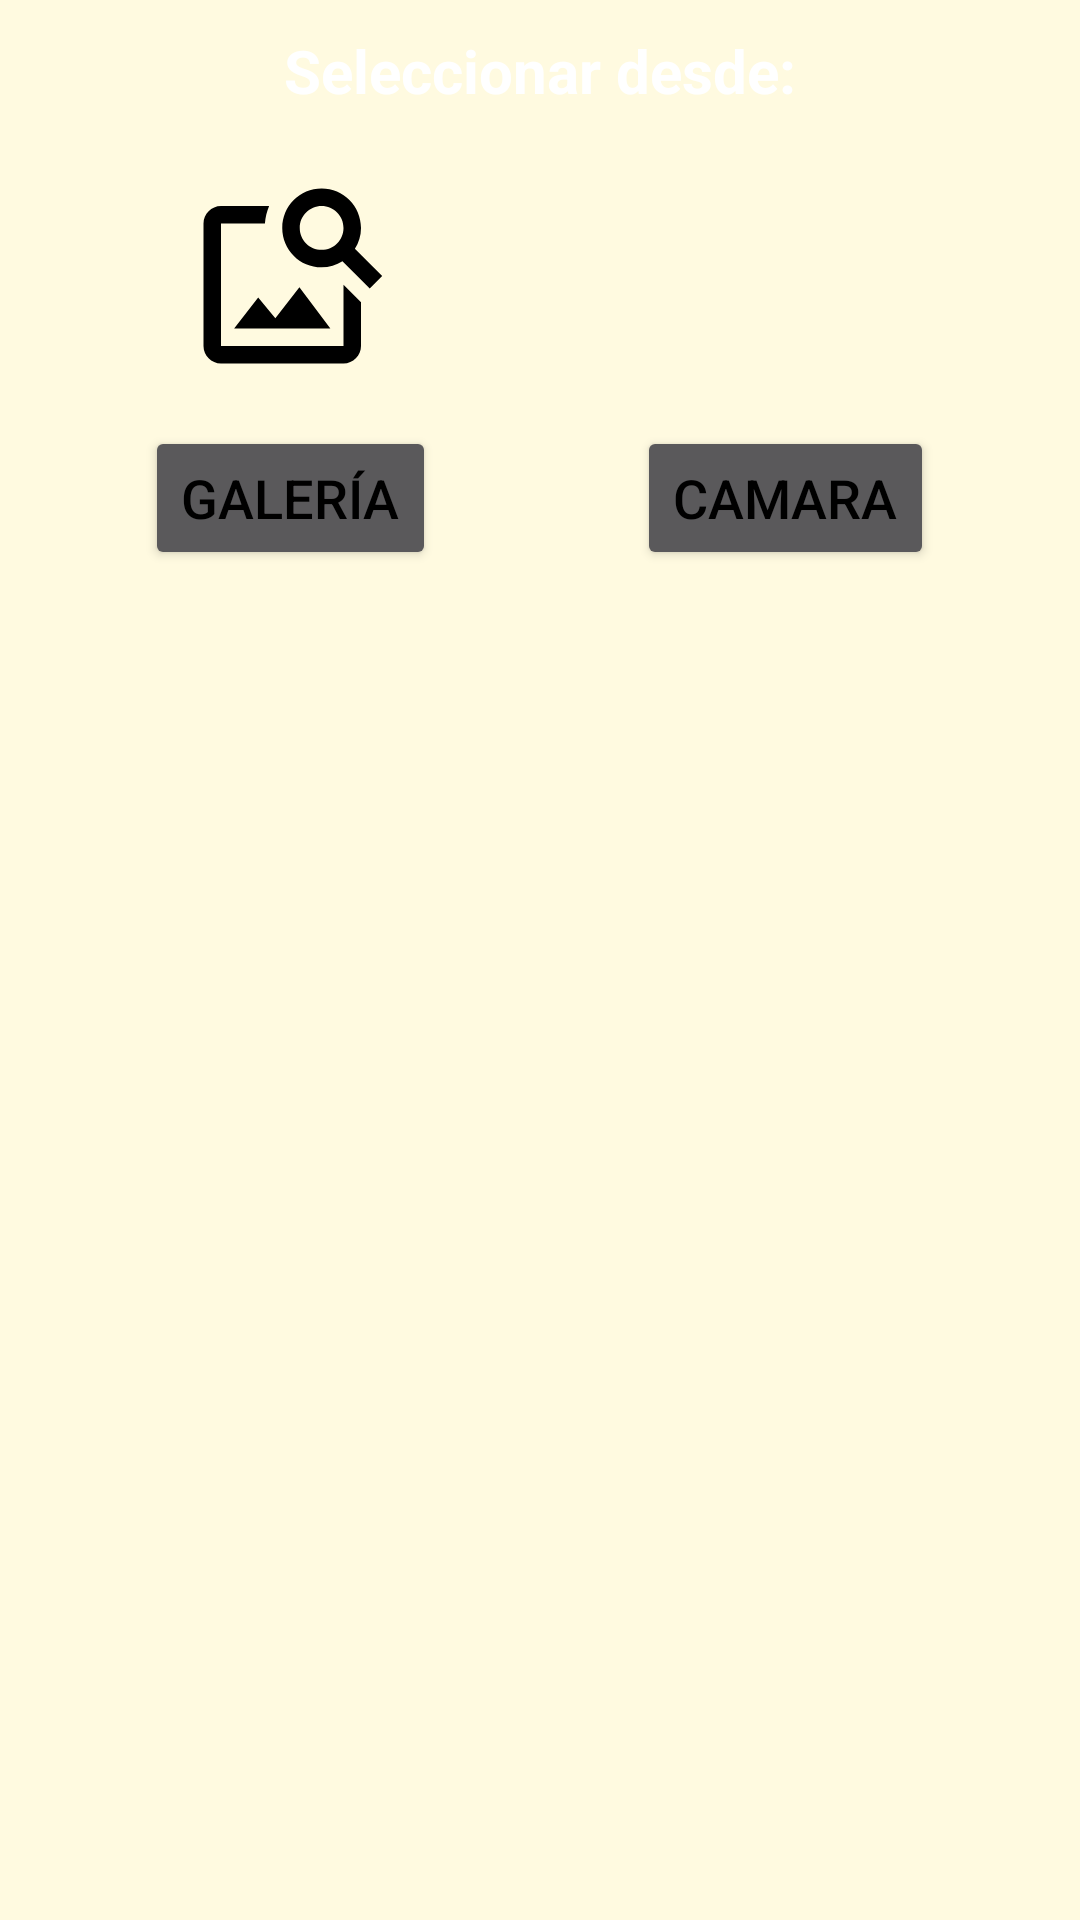

Locate icon controls on the screen. Image size 1080 x 1920, boxes as (x1, y1, x2, y2).
gallery: (203, 188, 382, 364)
